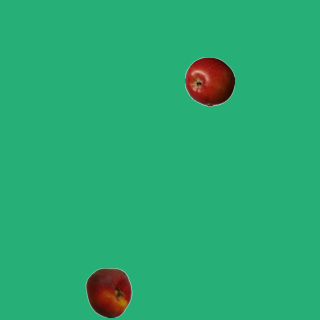Apple Braeburn: (184, 56, 234, 106)
Nectarine Flat: (83, 267, 133, 317)
